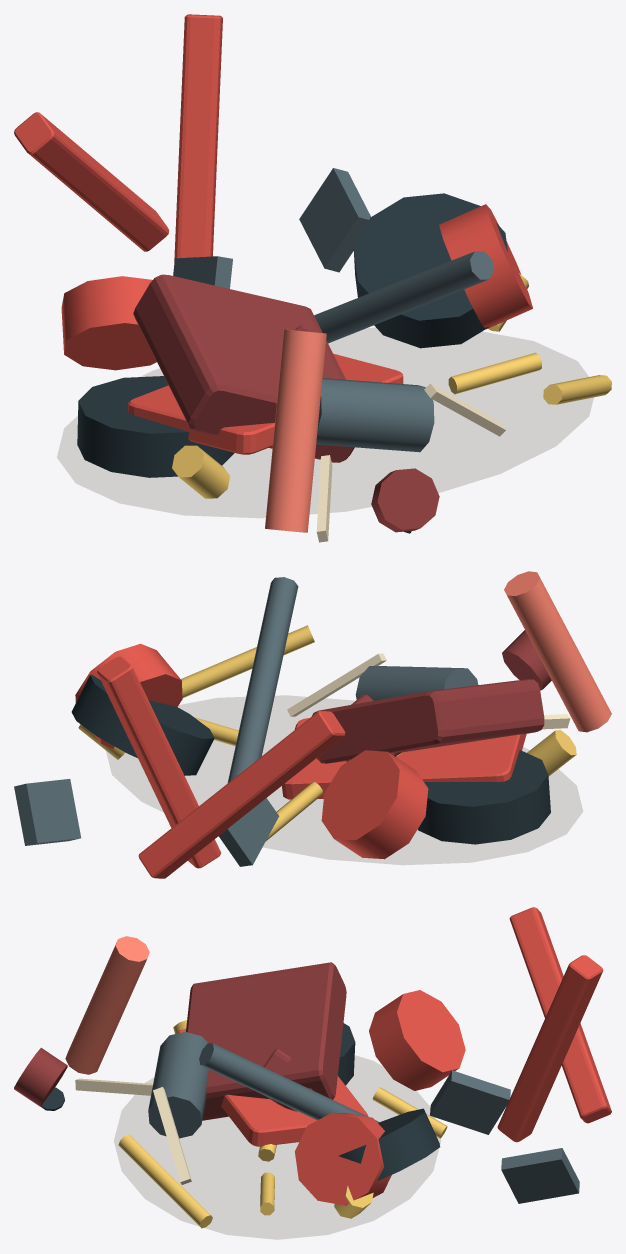
File: artillery-red-broken.glb
3 renders of one model, top to bottom at view 1: azimuth 30°, elevation 25°; view 2: azimuth 150°, elevation 25°; view 3: azimuth 270°, elevation 25°, orthographic. The views are drawn at different scales.
Parts seen in each view (by area): view 1: settled-toy-pieces (×7), impact-mark; view 2: settled-toy-pieces (×7), impact-mark; view 3: settled-toy-pieces (×7), impact-mark.
Boxes of the visible parts, box(x1,y1,x2,y2) form: settled-toy-pieces (×7): box(14, 14, 611, 542); impact-mark: box(57, 328, 593, 517); settled-toy-pieces (×7): box(14, 571, 611, 878); impact-mark: box(106, 695, 582, 864); settled-toy-pieces (×7): box(14, 907, 611, 1228); impact-mark: box(114, 1055, 440, 1239).
Bounding box in the file's own units: 2.2 × 1.07 × 2.81.
